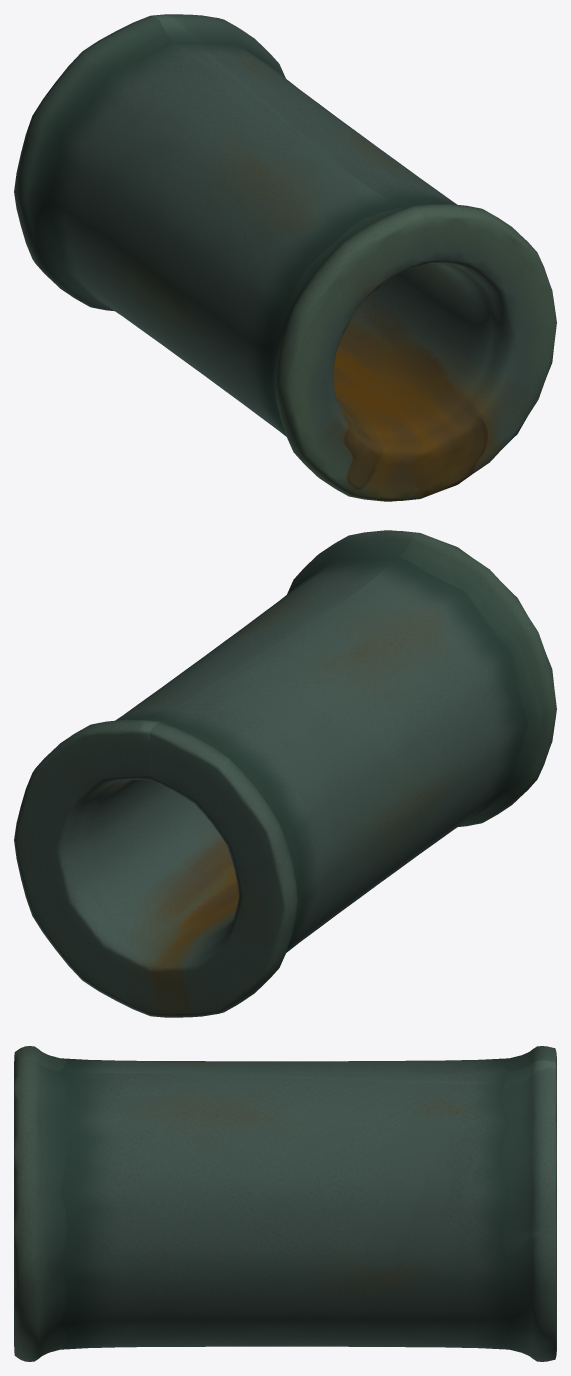
The model's file is FactoryPipe.fbx.
The picture shows the model from 3 angles, top to bottom: view 1: azimuth 30°, elevation 25°; view 2: azimuth 150°, elevation 25°; view 3: azimuth 270°, elevation 25°; orthographic projection.
Visible parts, largest first — view 1: FactoryPipe; view 2: FactoryPipe; view 3: FactoryPipe.
Boxes of the visible parts, x1=… form: FactoryPipe: x1=14, y1=14, x2=556, y2=501; FactoryPipe: x1=14, y1=530, x2=556, y2=1017; FactoryPipe: x1=14, y1=1046, x2=556, y2=1361.
Size of the model in its own units: 404 by 404 by 692.
Materials: 1 (1 with a texture image).
